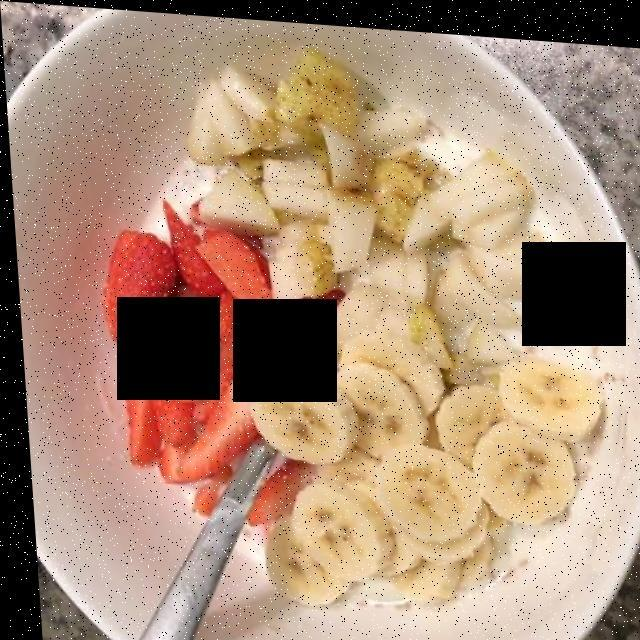birchermuesli: (87, 40, 625, 622)
